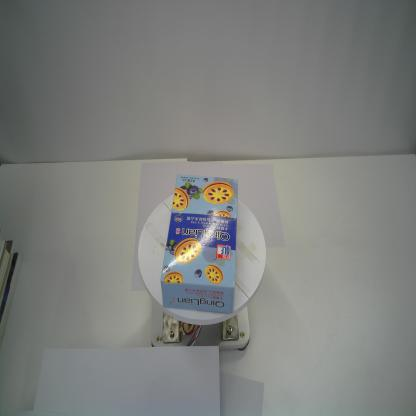Dessert: (160, 173, 238, 313)
